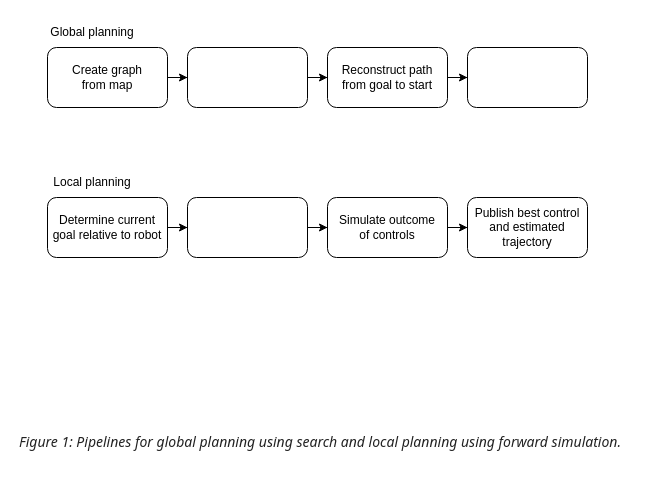
Image size: 654x504. Some labels were removed from this diagram. The shapes that lost their labels are listed below. From the top down, each one's box as (x1, y1, x2, y2) in pixels, then its label:
(186, 46, 308, 108): Run search algorithm
(466, 46, 588, 108): Publish path to move_base
(186, 196, 308, 258): Generate valid control signals
